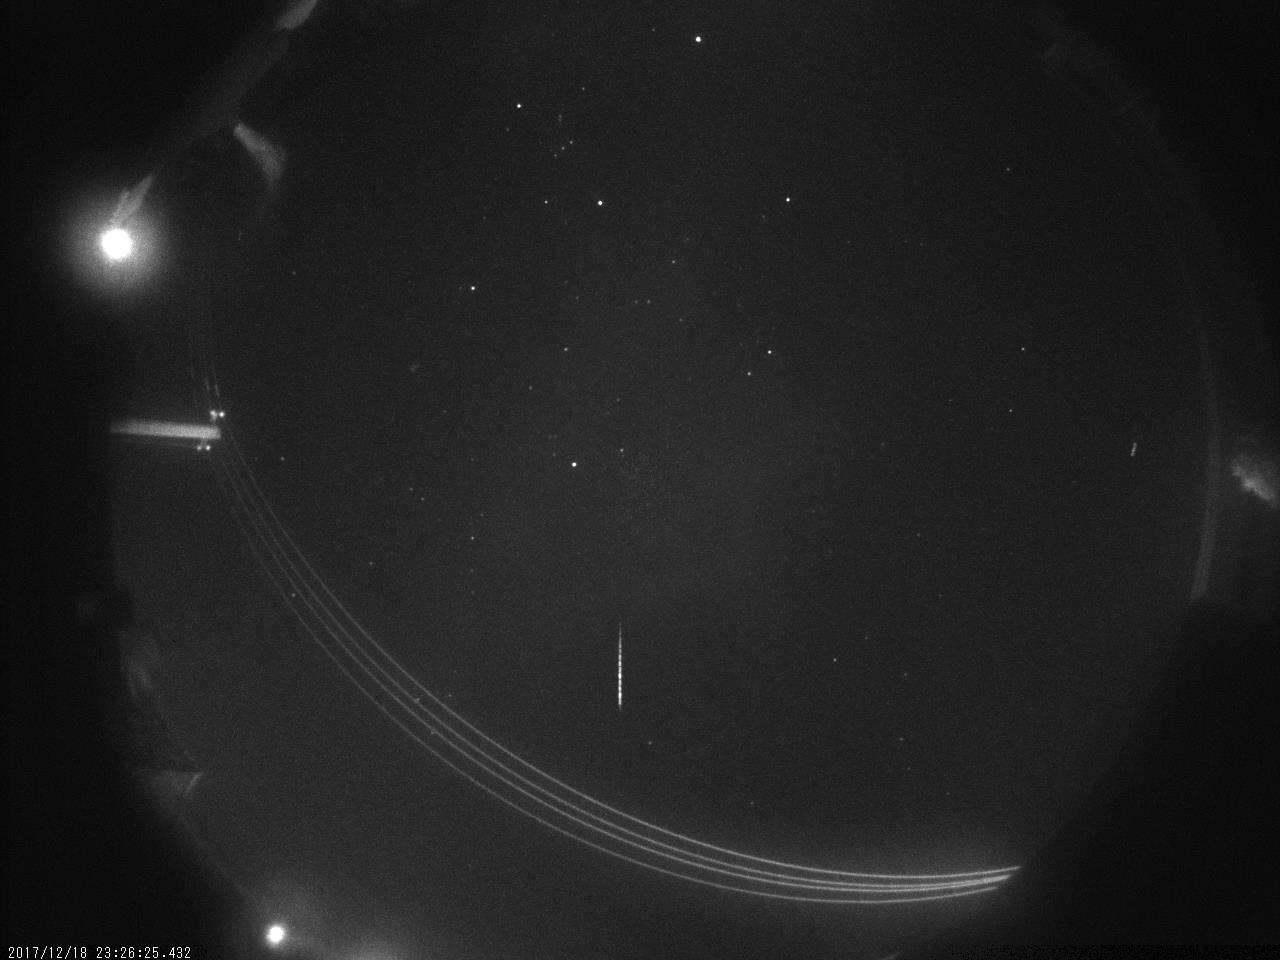meteor: (608, 621, 632, 715)
